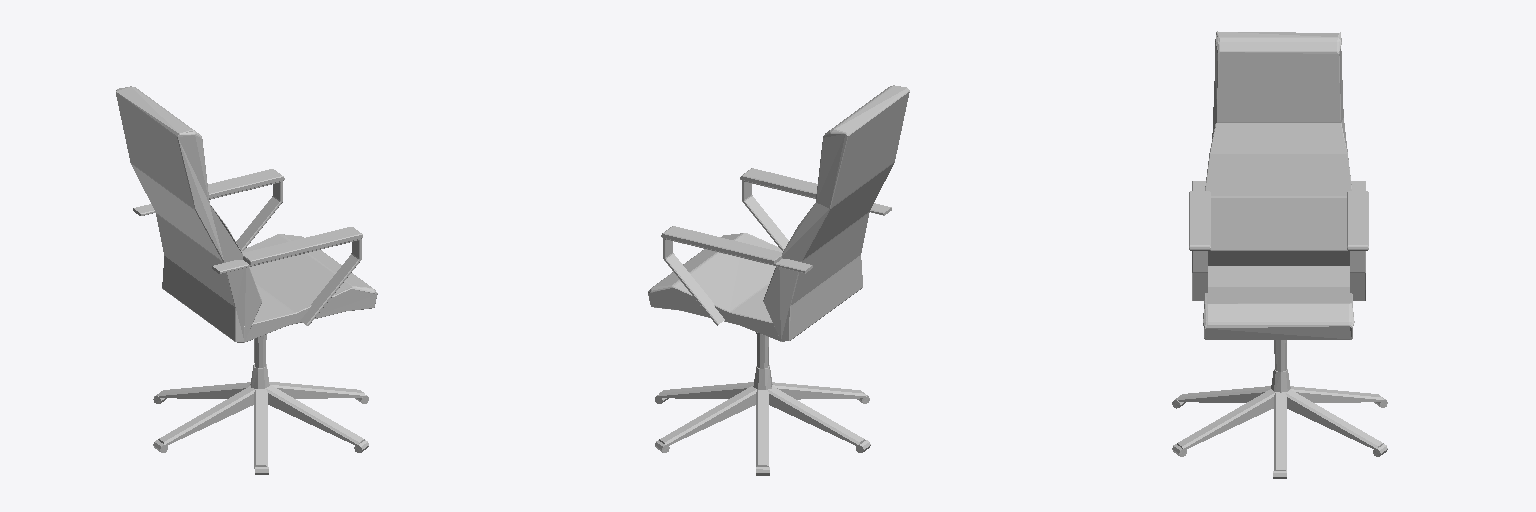
File: 办公椅.obj
The picture shows the model from 3 angles: view 1: azimuth 30°, elevation 25°; view 2: azimuth 150°, elevation 25°; view 3: azimuth 270°, elevation 25°; orthographic projection.
Parts seen in each view (by area): view 1: Box1700, Object015, Box1702, Line024; view 2: Box1700, Object015, Box1702, Line024; view 3: Box1700, Object015, Box1702, Line024.
Boxes of the visible parts, box(x1,y1,x2,y2) form: Box1700: box(116, 86, 362, 342); Object015: box(242, 234, 377, 342); Box1702: box(158, 369, 365, 468); Line024: box(133, 181, 361, 325); Box1700: box(661, 85, 909, 341); Object015: box(648, 233, 782, 341); Box1702: box(658, 382, 866, 466); Line024: box(663, 180, 891, 325); Box1700: box(1189, 31, 1368, 303); Object015: box(1203, 266, 1354, 339); Box1702: box(1177, 386, 1383, 470); Line024: box(1192, 181, 1365, 300).
Size of the model in its own units: 78.38 by 117 by 66.48.